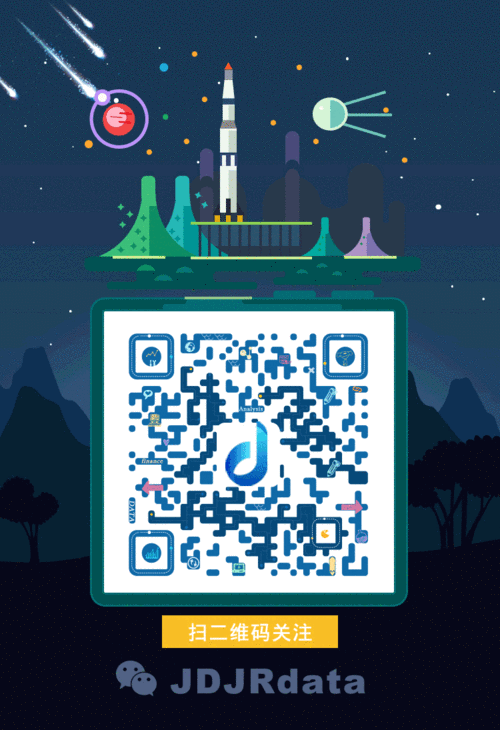QRCode: (120, 324, 379, 578)
